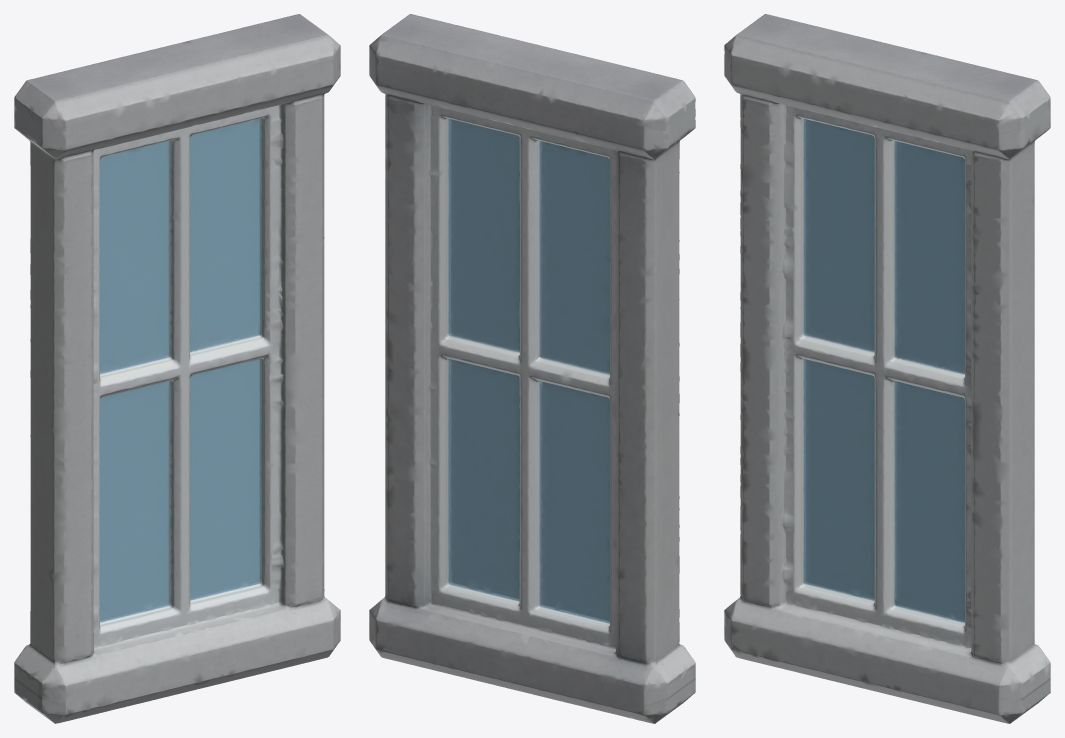
Rendered from Ventana.glb.
The picture shows the model from 3 angles, left to right: view 1: azimuth 30°, elevation 25°; view 2: azimuth 150°, elevation 25°; view 3: azimuth 330°, elevation 25°; orthographic projection.
Bounding box in the file's own units: 0.9534 × 1.9 × 0.2454.
Materials: 1 (1 with a texture image).
